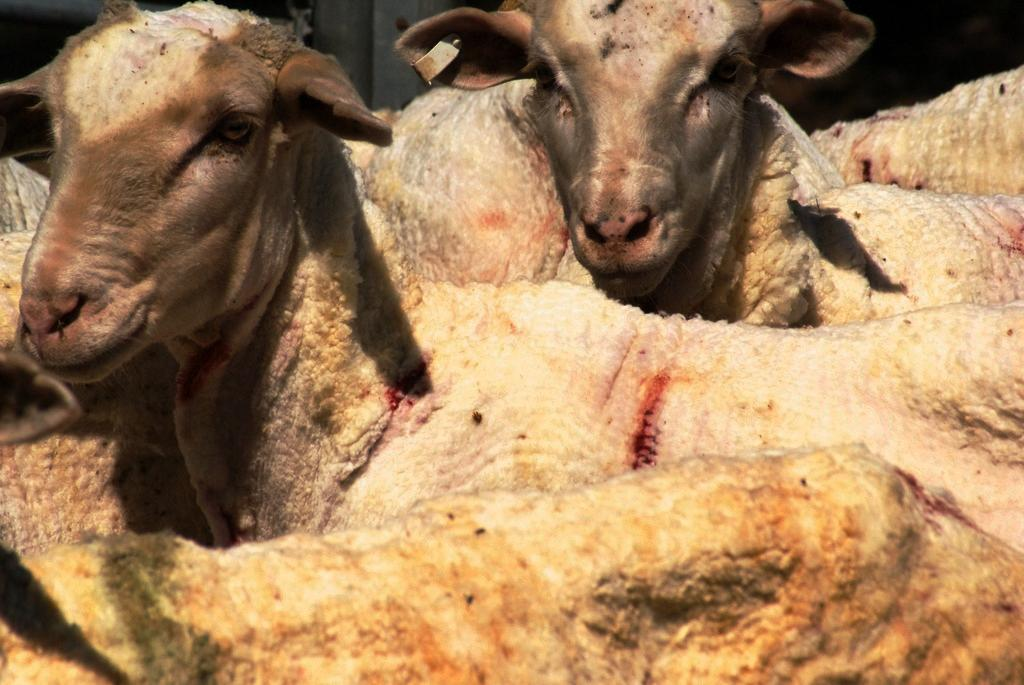Sheep: (0, 0, 1022, 682), (0, 0, 433, 458), (415, 0, 893, 356)
